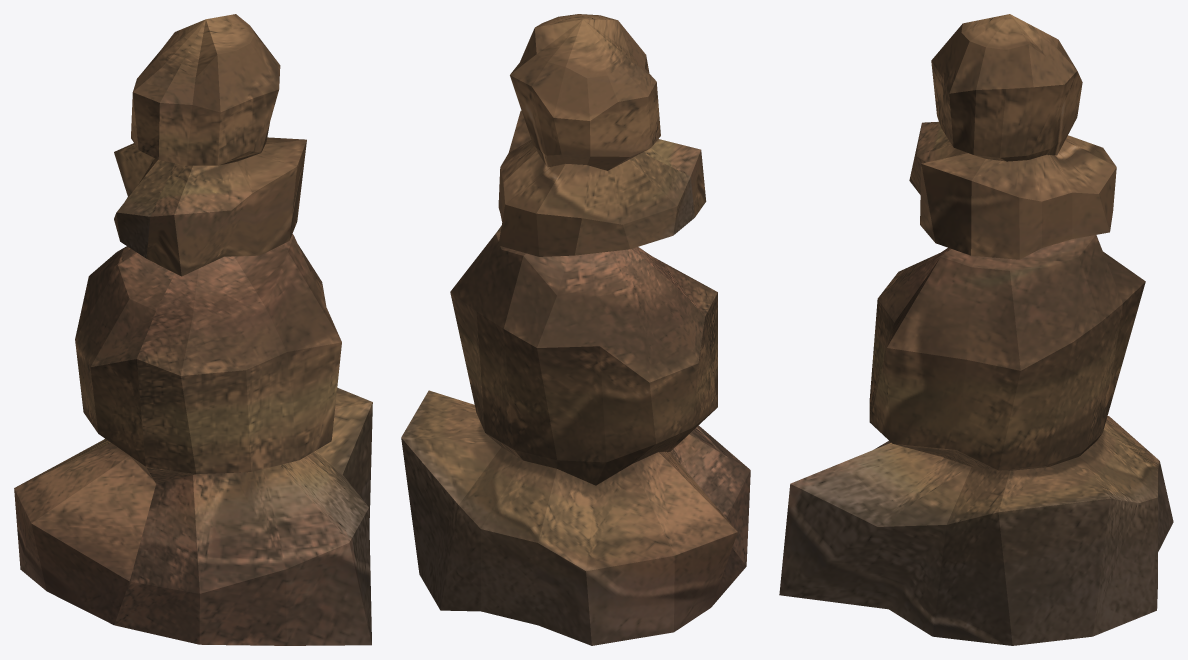
Rendered from Pilaar 2.fbx.
3 views of the same model, side by side, from view 1: azimuth 30°, elevation 25°; view 2: azimuth 150°, elevation 25°; view 3: azimuth 270°, elevation 25° (orthographic).
Visible parts, largest first — view 1: polySurface1; view 2: polySurface1; view 3: polySurface1.
Part boxes in pixels (x1,y1,x2,y2): polySurface1: (14,14,372,645); polySurface1: (401,14,750,645); polySurface1: (779,14,1173,645).
Size of the model in its own units: 4.28 by 7.2 by 4.46.
Materials: 1 (1 with a texture image).
